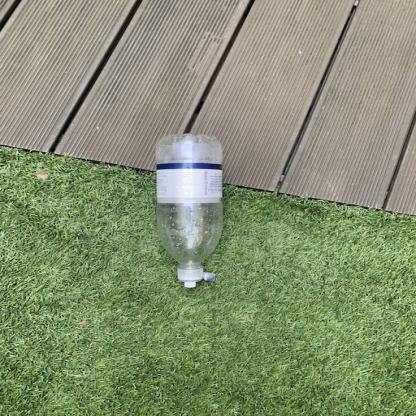trash: (150, 132, 223, 288)
